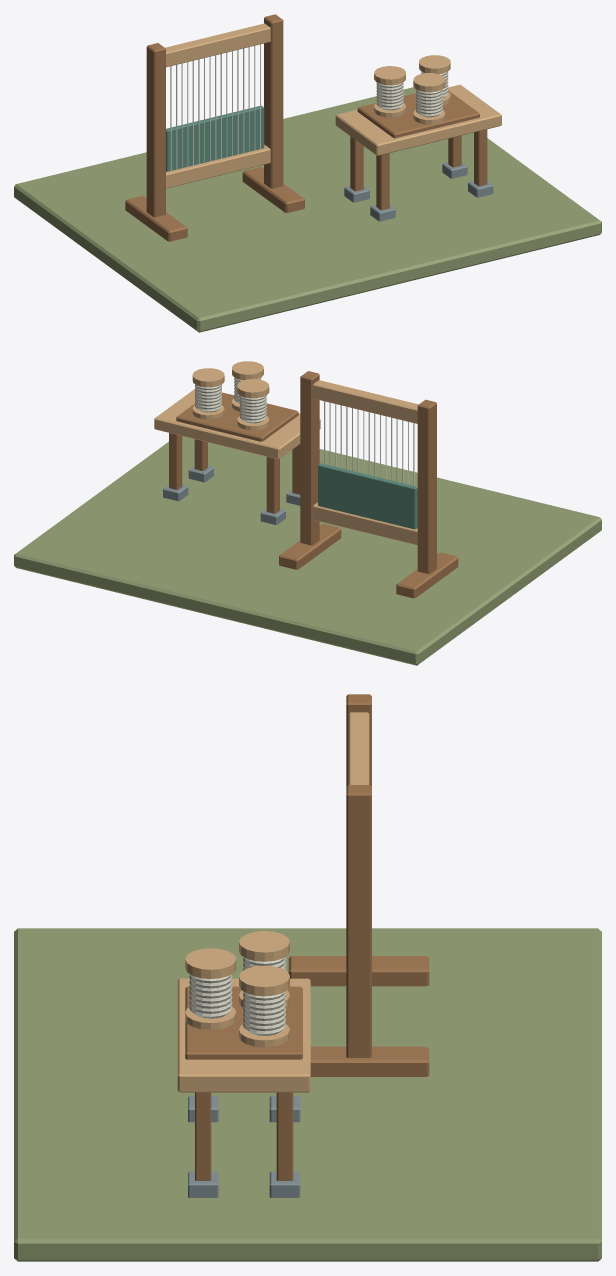
3 renders of one model, top to bottom at view 1: azimuth 30°, elevation 25°; view 2: azimuth 150°, elevation 25°; view 3: azimuth 270°, elevation 25°, orthographic. The views are drawn at different scales.
Parts seen in each view (by area): view 1: textile-weaving-corner-01; view 2: textile-weaving-corner-01; view 3: textile-weaving-corner-01.
Part boxes in pixels (x1,y1,x2,y2): textile-weaving-corner-01: [14, 14, 601, 332]; textile-weaving-corner-01: [14, 361, 601, 665]; textile-weaving-corner-01: [14, 694, 601, 1261].
Bounding box in the file's own units: 2.9 × 1.31 × 2.3.
